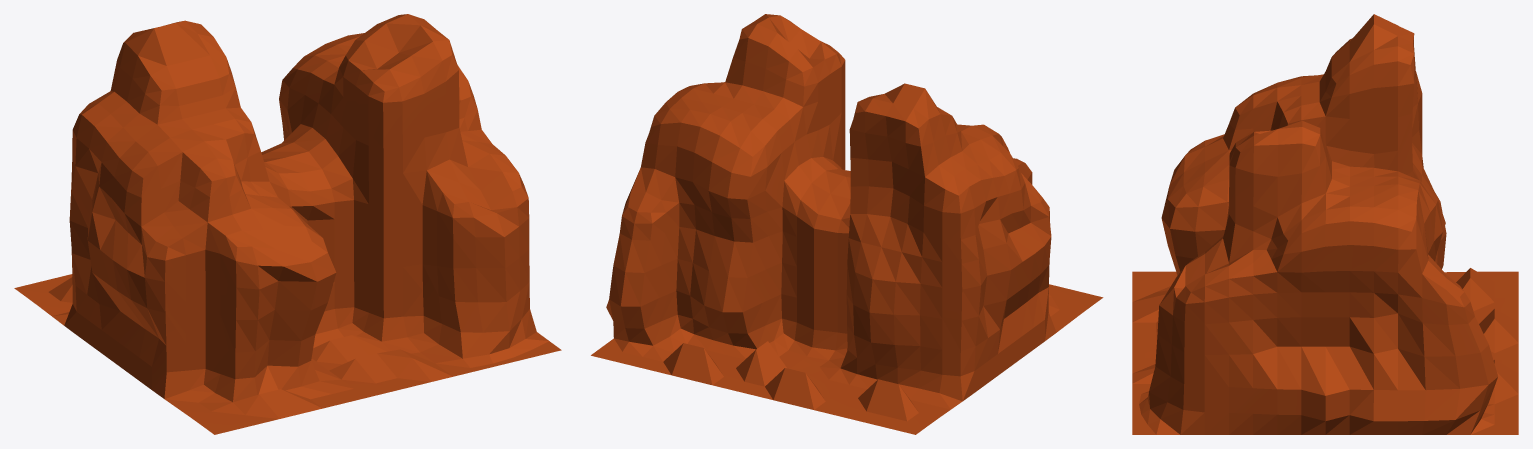
File: Mountain_desert_002.glb
The picture shows the model from 3 angles, left to right: view 1: azimuth 30°, elevation 25°; view 2: azimuth 150°, elevation 25°; view 3: azimuth 270°, elevation 25°; orthographic projection. The views are drawn at different scales.
Parts seen in each view (by area): view 1: Mountain_desert_002; view 2: Mountain_desert_002; view 3: Mountain_desert_002.
Part boxes in pixels (x1,y1,x2,y2): Mountain_desert_002: (14,14,561,434); Mountain_desert_002: (591,14,1103,434); Mountain_desert_002: (1132,14,1518,434).
Bounding box in the file's own units: 25.2 × 18.99 × 23.
